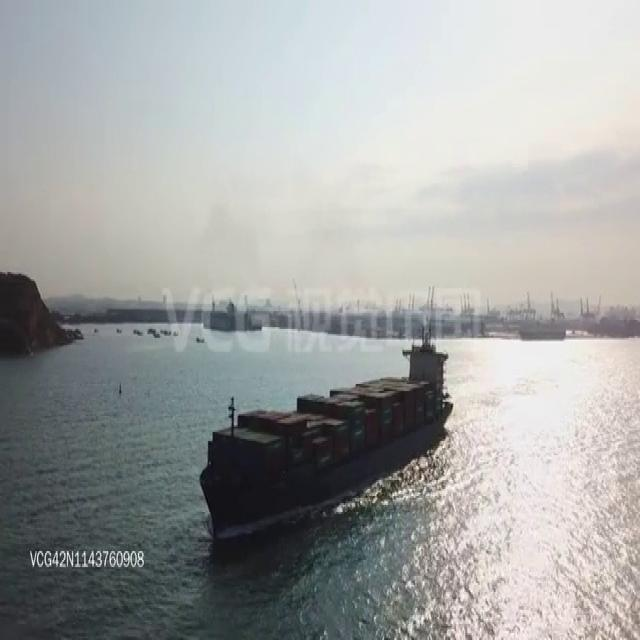cargoship: (196, 336, 457, 538)
